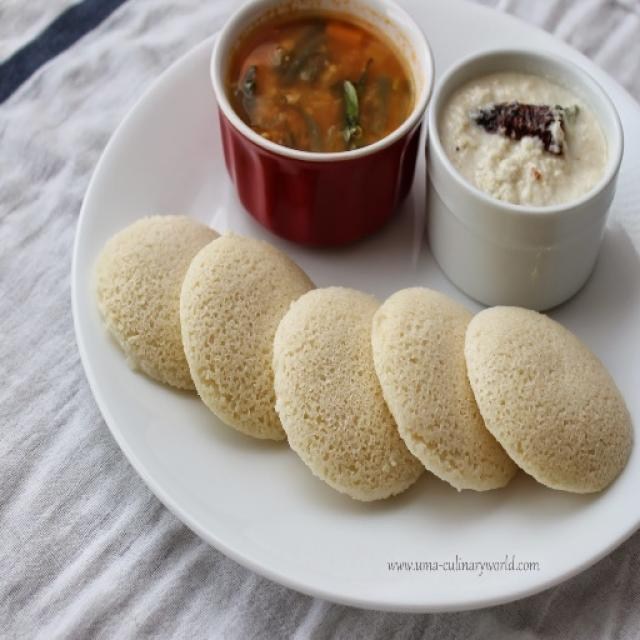IDLI: (94, 211, 635, 507)
SAMBAR: (230, 8, 414, 154)
WHITE CHUTNEY: (442, 67, 610, 211)
